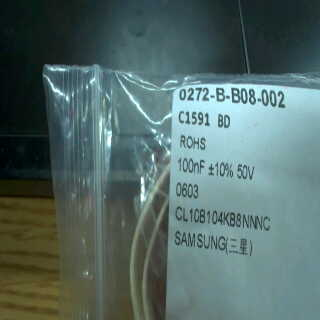100nF: (176, 158, 206, 175)
